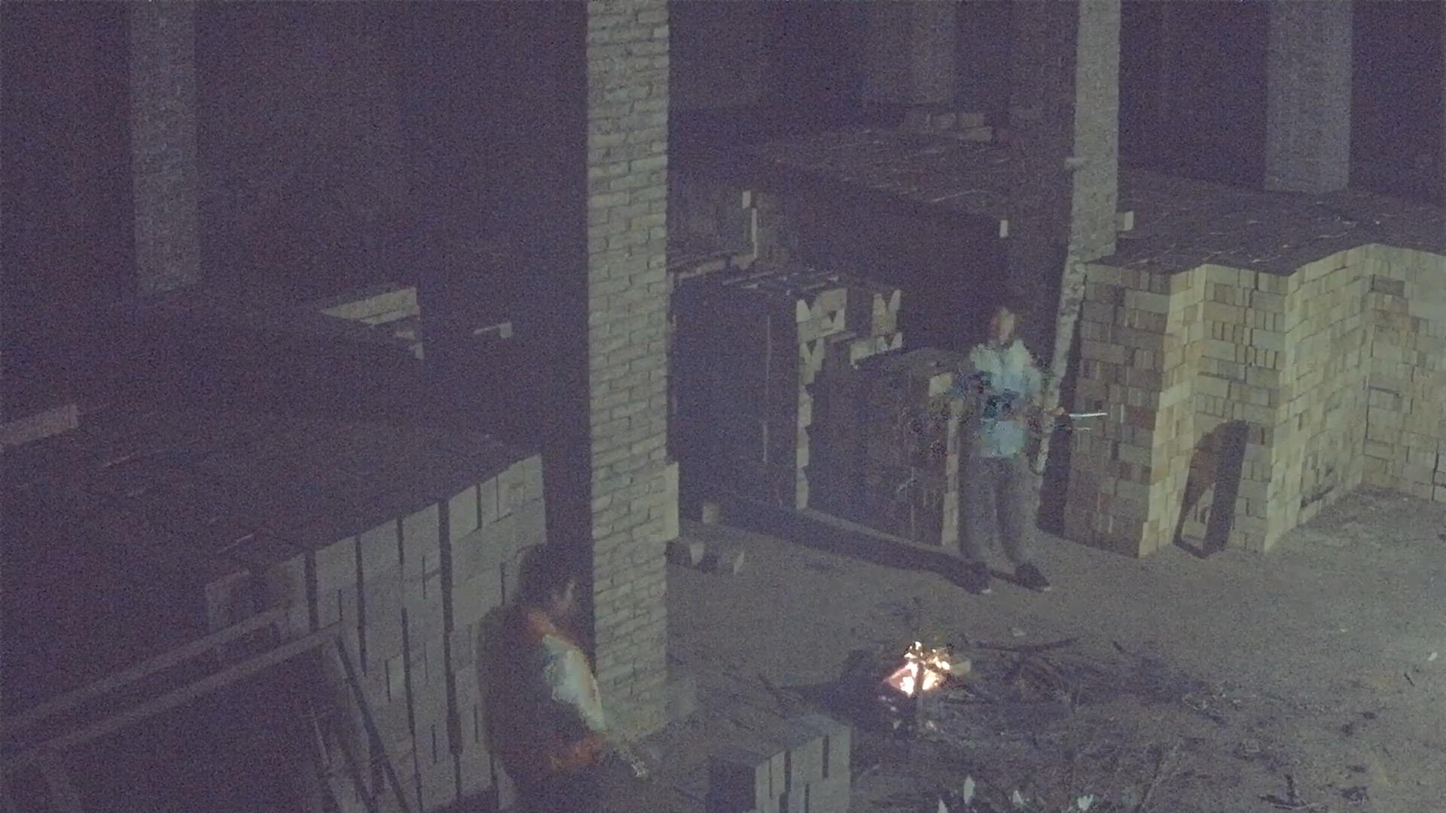fire: (884, 641, 956, 696)
